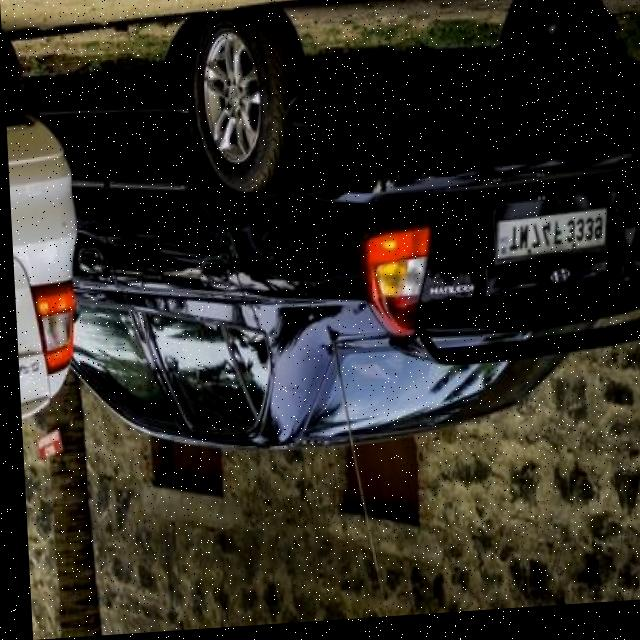plate: (487, 214, 609, 273)
